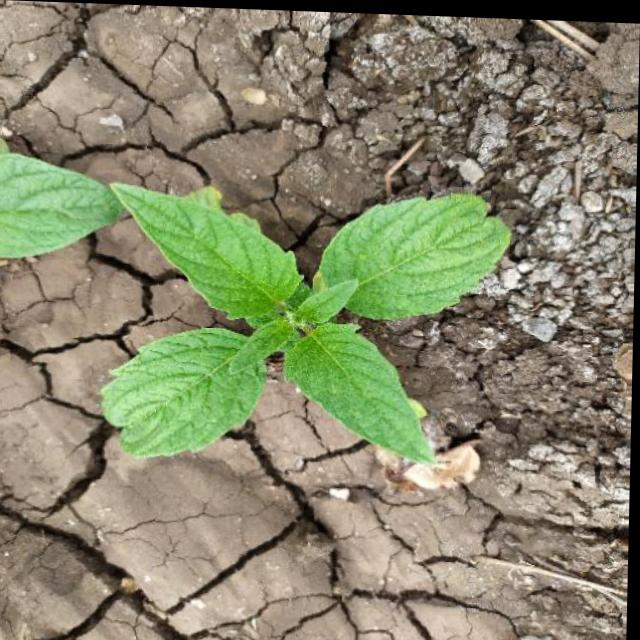crop: (111, 111, 522, 527)
